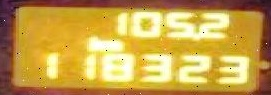-: (189, 33, 200, 39)
0: (129, 9, 160, 36)
1: (40, 50, 60, 78), (78, 52, 96, 79), (111, 10, 126, 34)
2: (173, 53, 211, 82), (195, 10, 231, 38)
3: (135, 52, 171, 82), (213, 53, 246, 83)
5: (162, 11, 193, 37)
8: (98, 52, 133, 81)
X: (84, 34, 100, 51), (100, 39, 122, 50)
